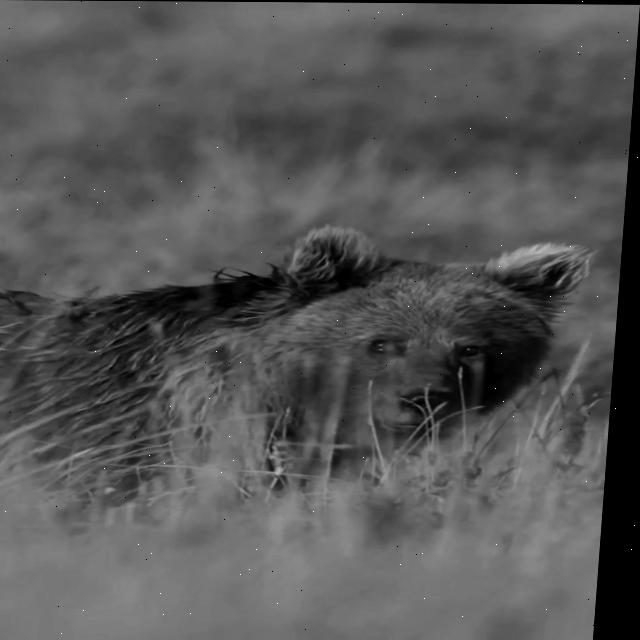Bear: (0, 222, 597, 523)
